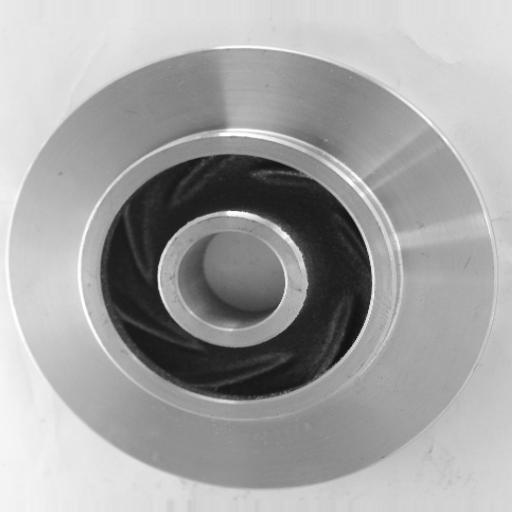polished_casting: (7, 44, 497, 489)
